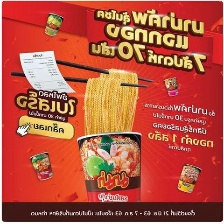paper_cup: (73, 127, 148, 202), (171, 159, 206, 196), (25, 147, 59, 184), (38, 9, 68, 40), (160, 73, 182, 99)
